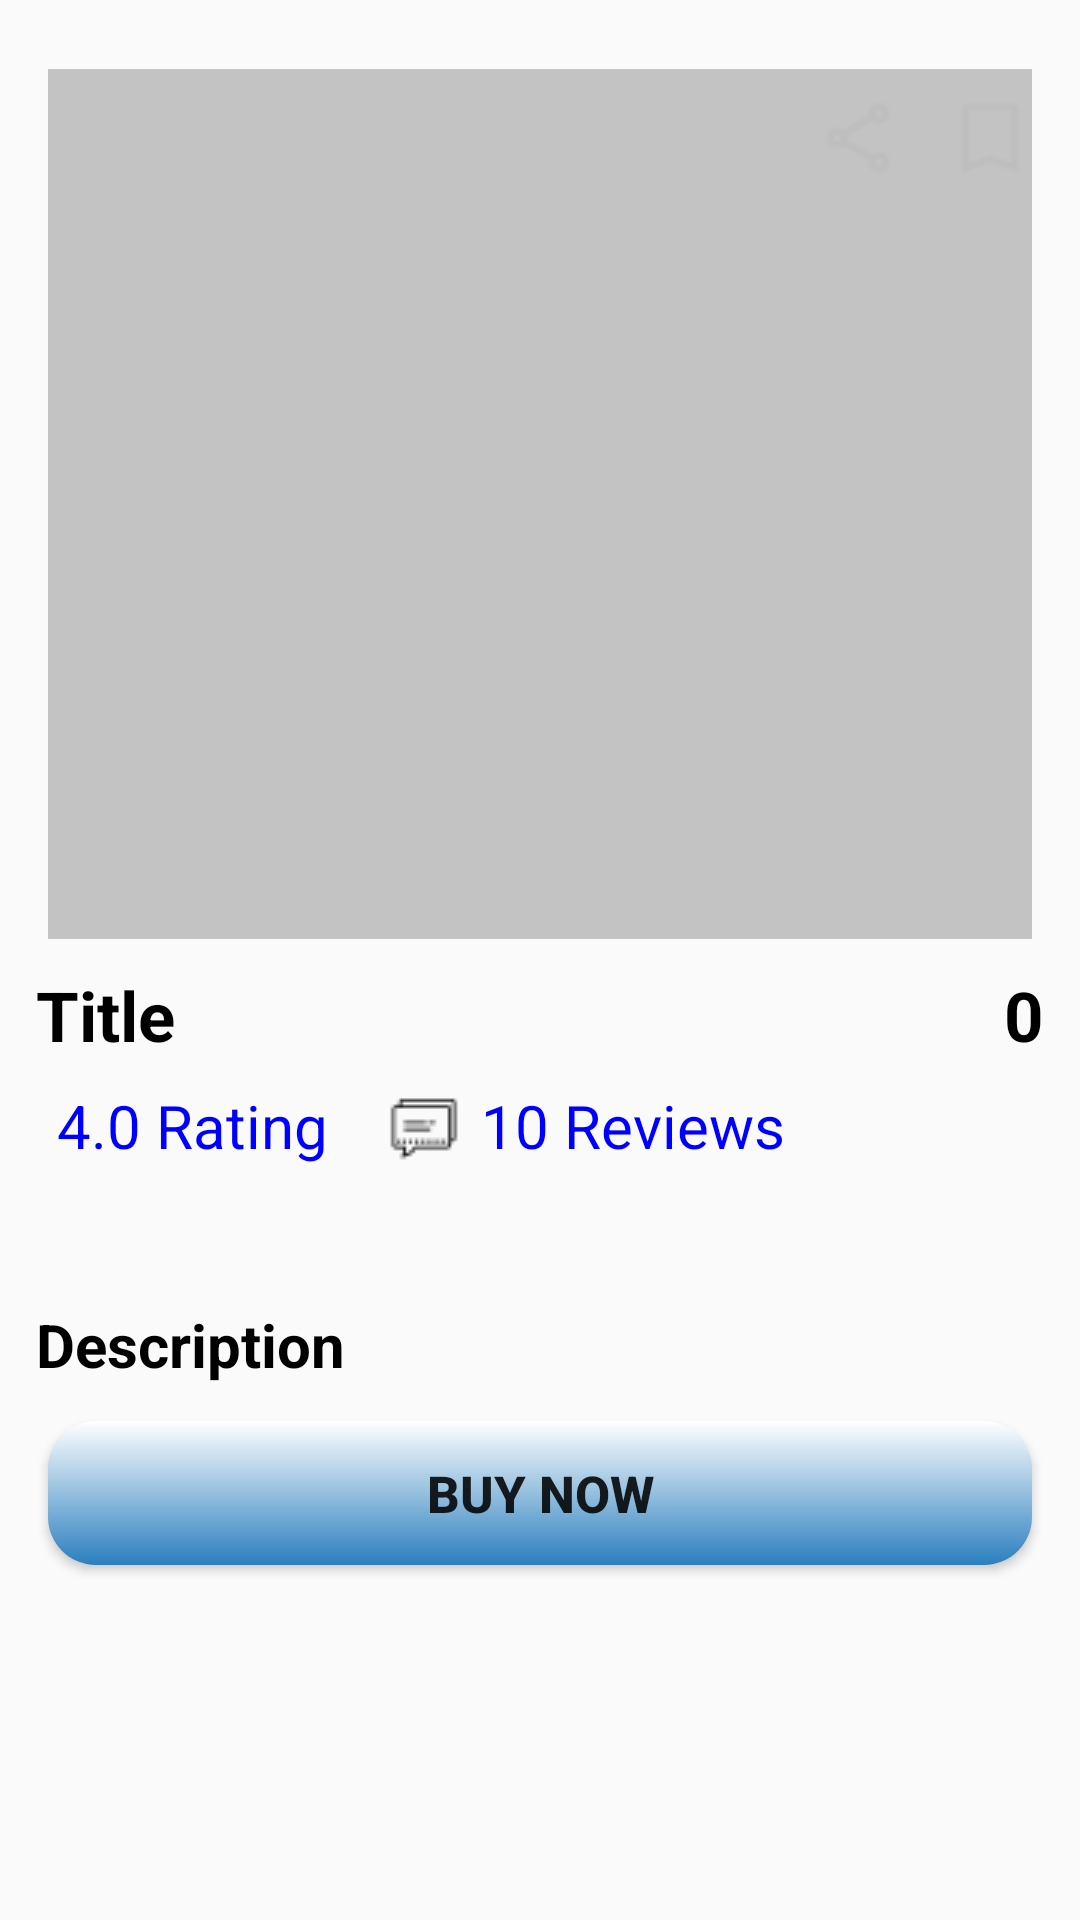

Icons on this 1080 x 1920 Android screen, each with its box as (x1, y1, x2, y2):
comment: (390, 1098, 458, 1160)
